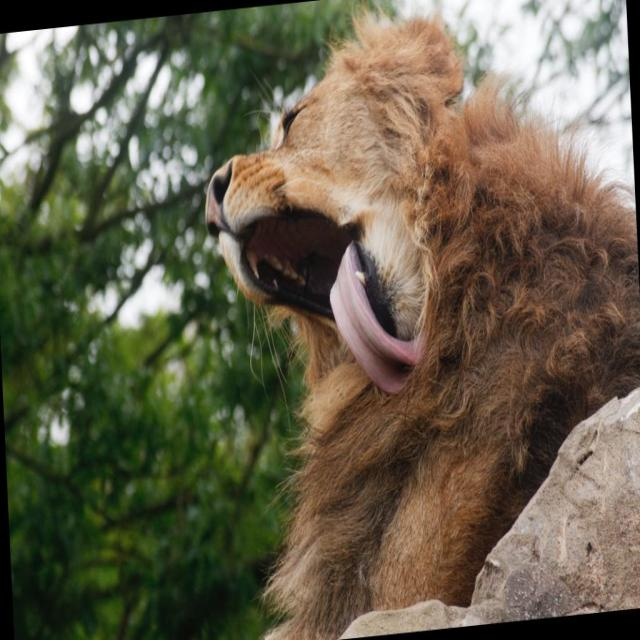Lion: (195, 0, 639, 639)
